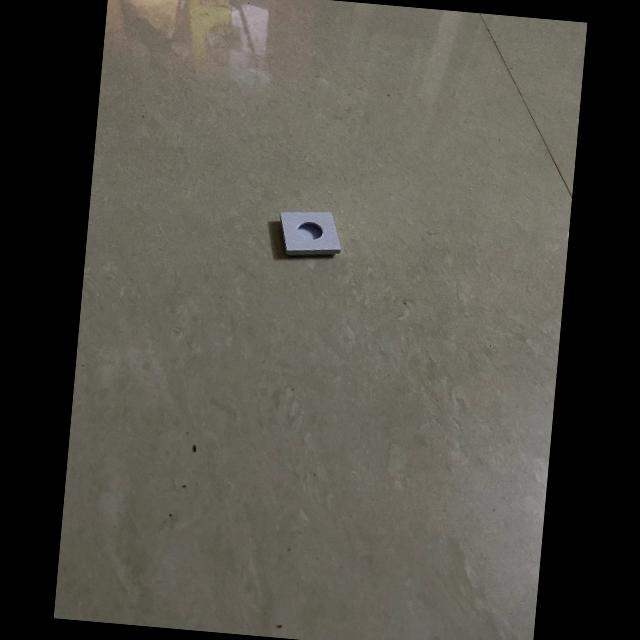RASPBERY PI CAM ENCLOSURE: (276, 208, 344, 260)
